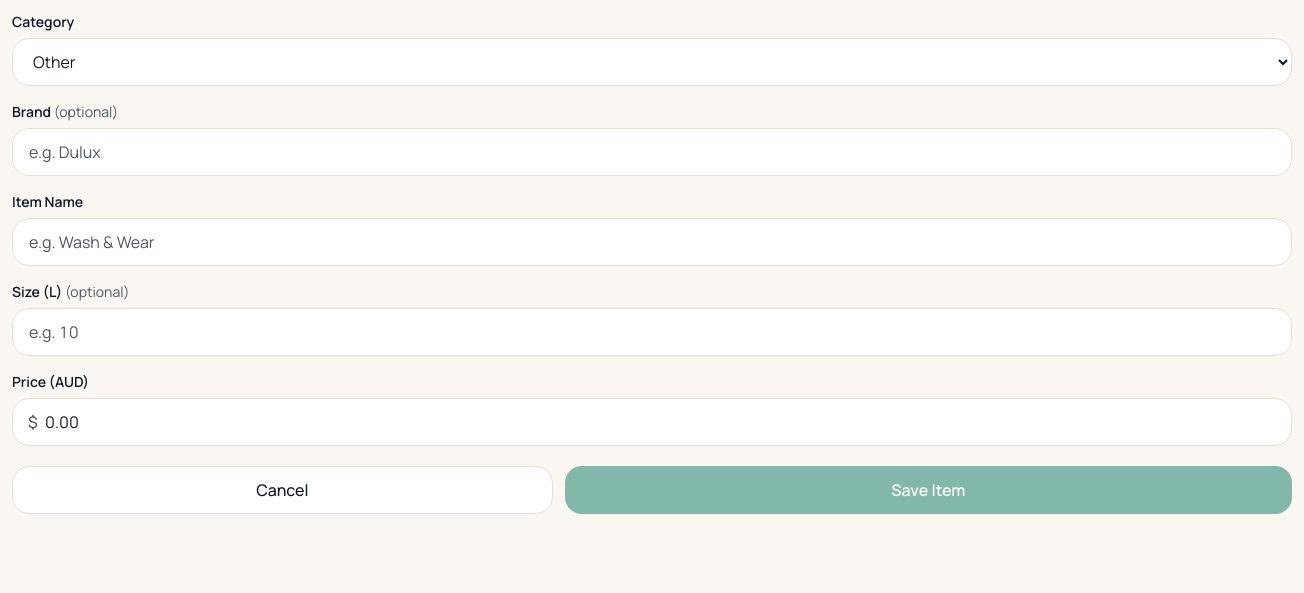
Test: MaterialItemForm submit exception handling › preserves returned save errors and exits the saving state
In the field labelled "Item Name": (652, 242) [12,218,1292,266], type "Ceiling Paint"
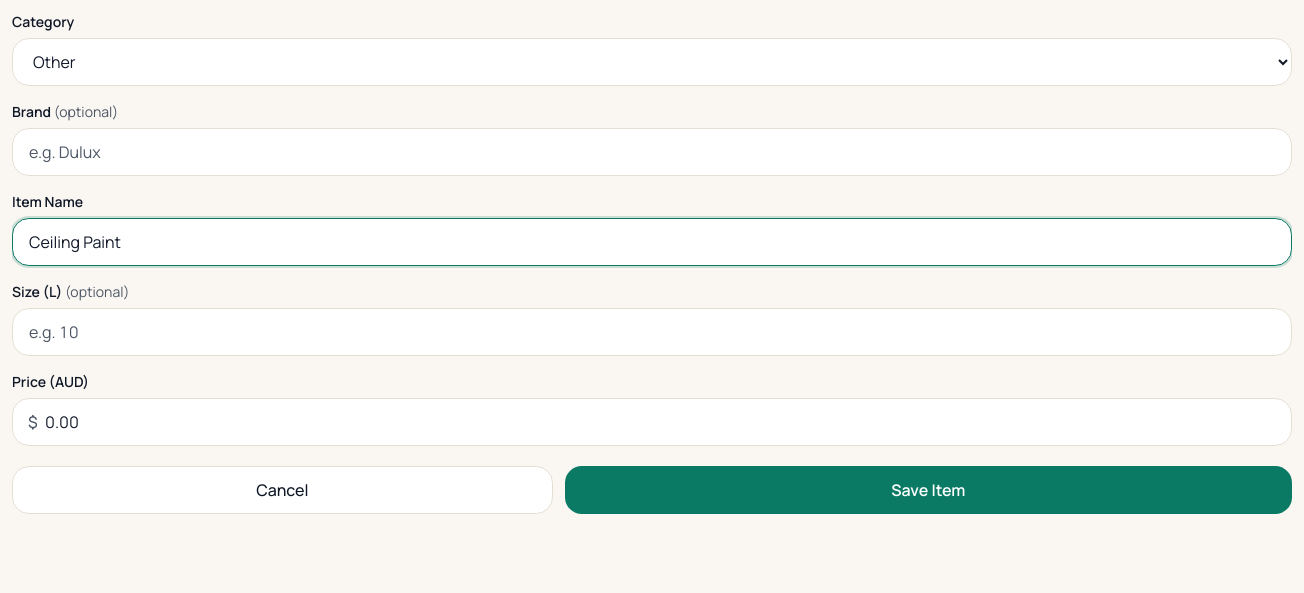
Click the button "Save Item": (928, 490) [565,466,1292,514]
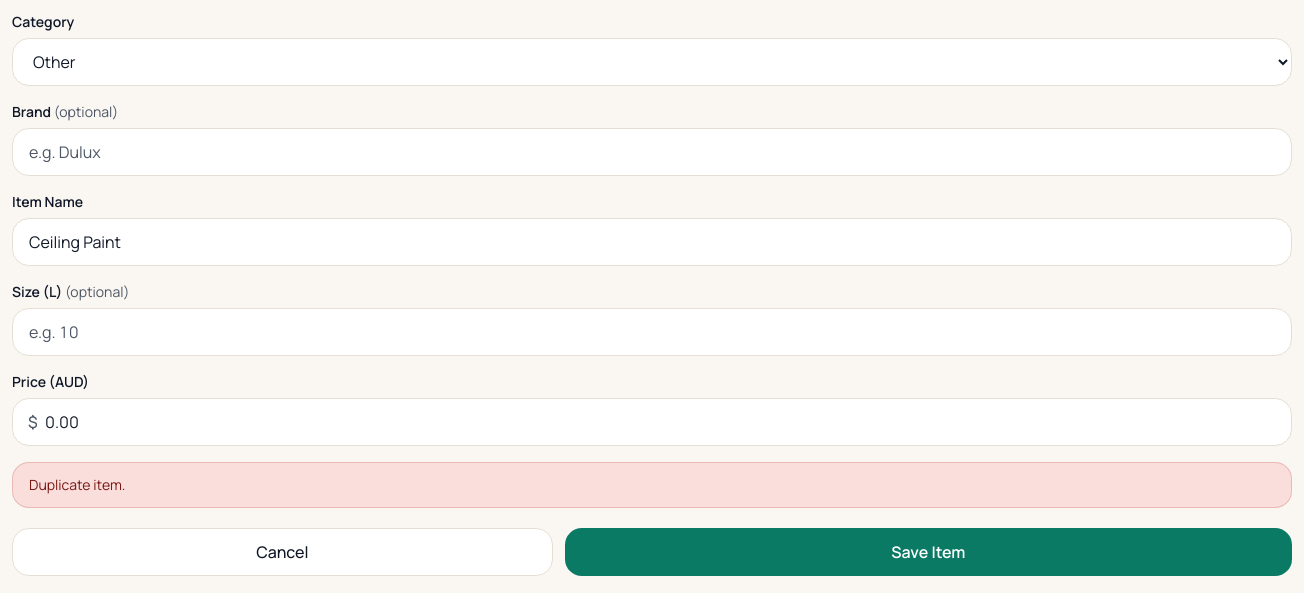
Check: the button "Save Item" is enabled, box [565,528,1292,576]
Check: the text "Duplicate item." is shown, box [12,462,1292,508]
